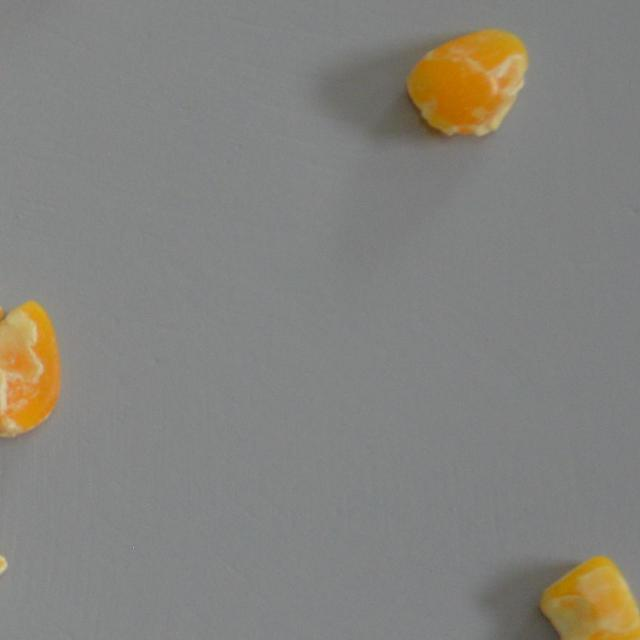pelicula: (408, 18, 524, 144), (0, 305, 62, 462), (530, 556, 640, 640)
